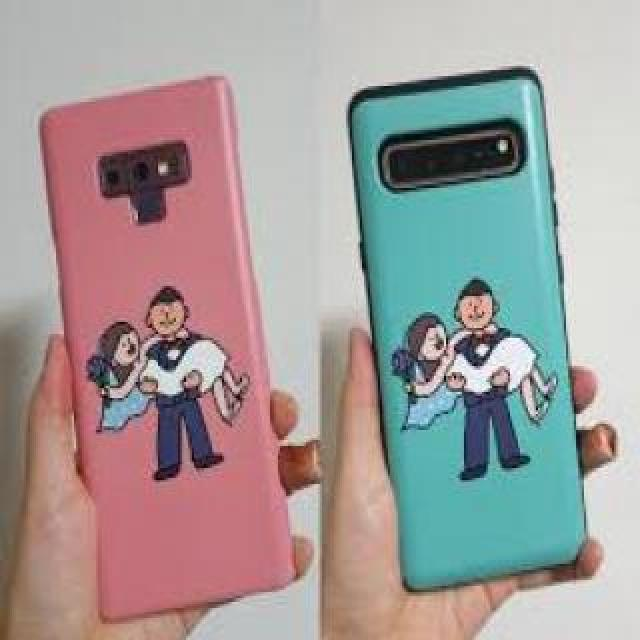smart phone: (11, 59, 316, 614), (335, 60, 608, 603)
